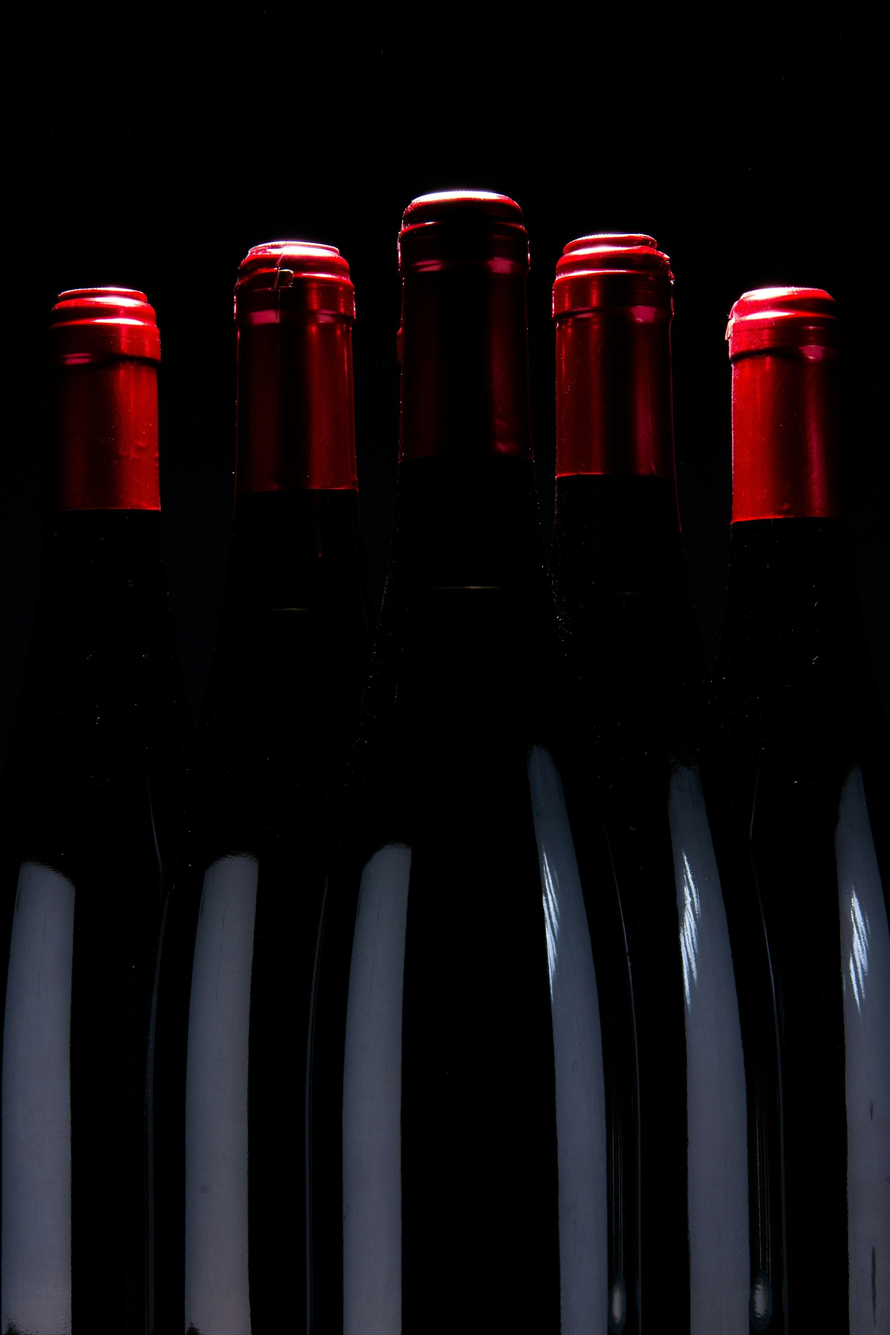Bottle-Detection: (368, 158, 566, 1335), (720, 189, 890, 1335), (0, 229, 176, 1335), (210, 198, 374, 1335), (547, 179, 708, 1335)
